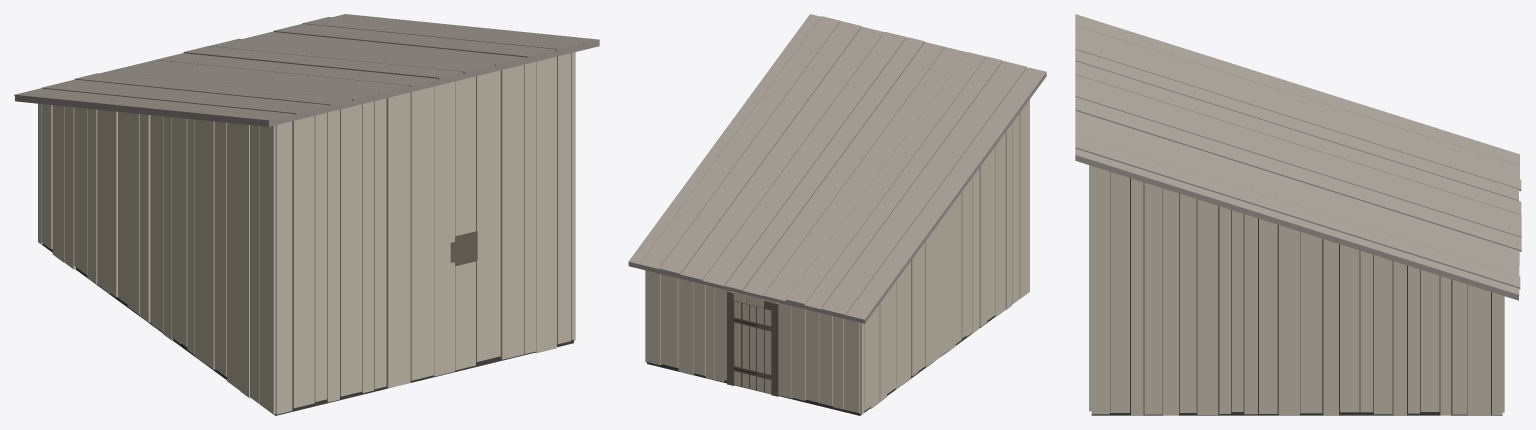
File: recon_1835_blk_randolph_wells_d2_07__inferred_1835.glb
3 views of the same model, side by side, from view 1: azimuth 30°, elevation 25°; view 2: azimuth 150°, elevation 25°; view 3: azimuth 270°, elevation 25° (orthographic). The views are drawn at different scales.
Visible parts, largest first — view 1: recon_1835_blk_randolph_wells_d2_07__inferred_1835; view 2: recon_1835_blk_randolph_wells_d2_07__inferred_1835; view 3: recon_1835_blk_randolph_wells_d2_07__inferred_1835.
Part boxes in pixels (x1,y1,x2,y2): recon_1835_blk_randolph_wells_d2_07__inferred_1835: [14, 14, 599, 415]; recon_1835_blk_randolph_wells_d2_07__inferred_1835: [628, 14, 1046, 415]; recon_1835_blk_randolph_wells_d2_07__inferred_1835: [1075, 14, 1521, 415].
Bounding box in the file's own units: 5.45 × 4.84 × 7.3.
